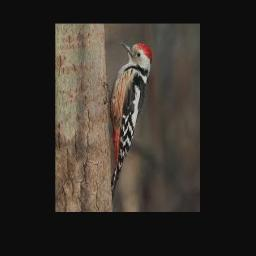Woodpecker: (103, 42, 152, 200)
